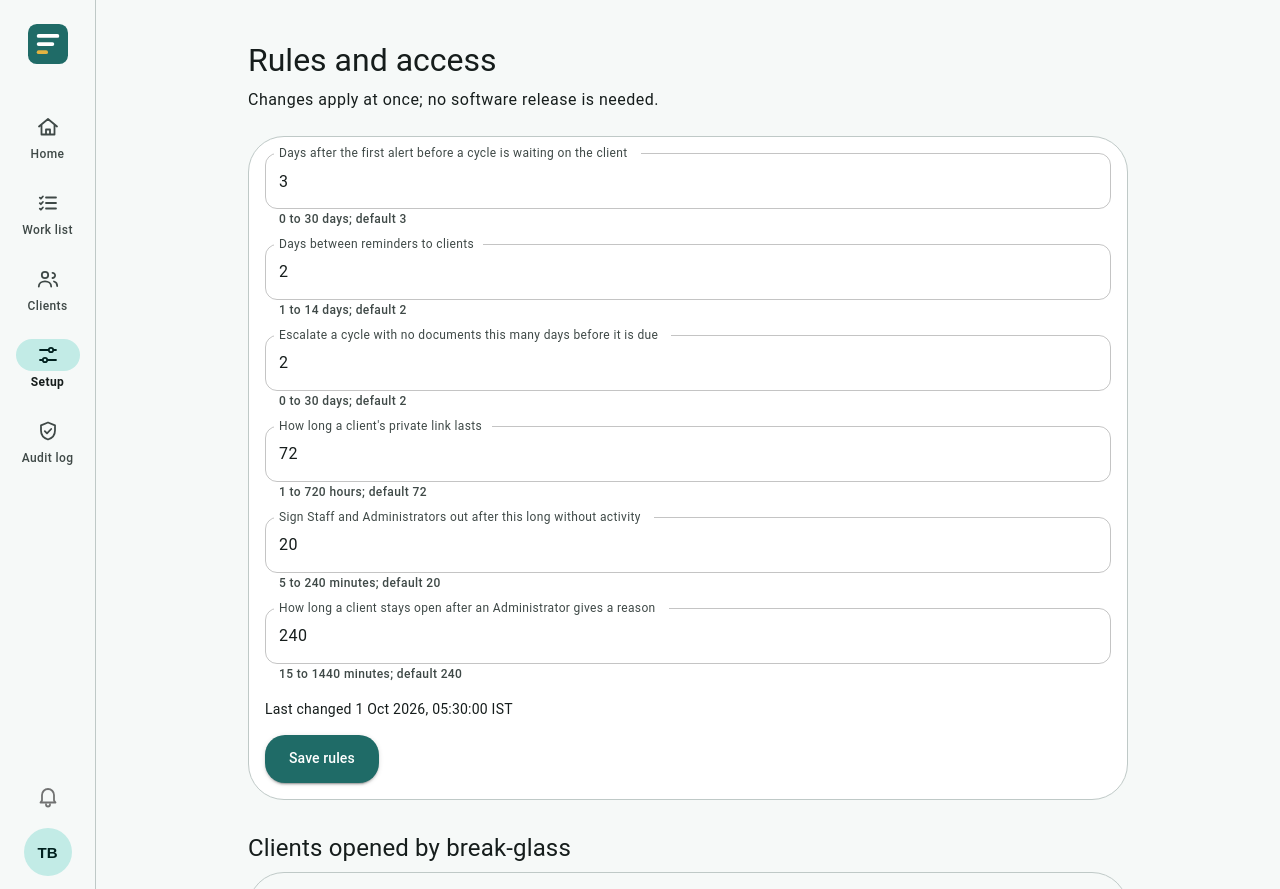
Scenario: Rules and access › changes a rule within its limits and lists break-glass openings
This screenshot has width=1280, height=889.
Step 1. Replace the text in the field labelled "Sign Staff and Administrators out" with "300" → (688, 545), box [265, 517, 1111, 573]
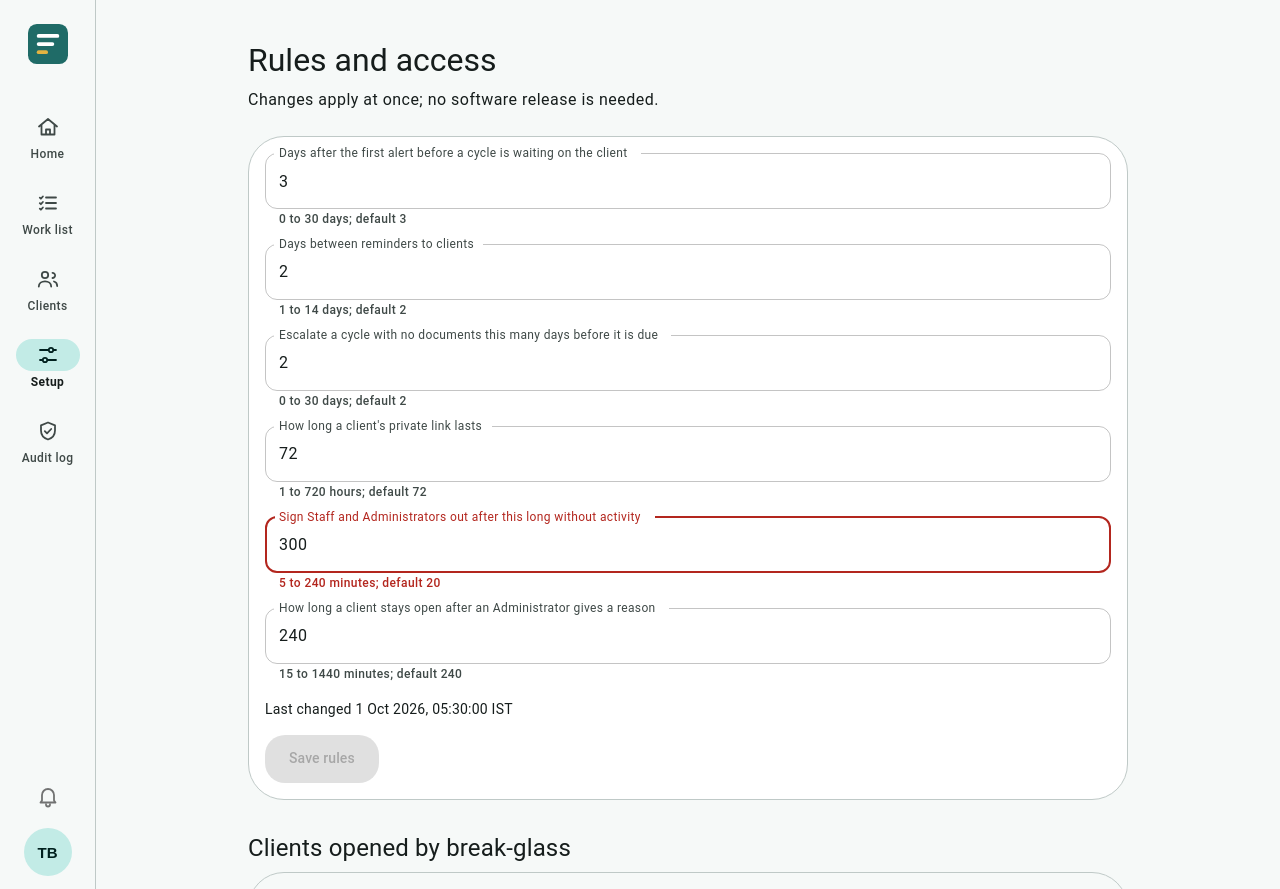
expect the button "Save rules" is disabled: met, box [265, 735, 379, 783]
Step 2. Replace the text in the field labelled "Sign Staff and Administrators out" with "45" → (688, 545), box [265, 517, 1111, 573]
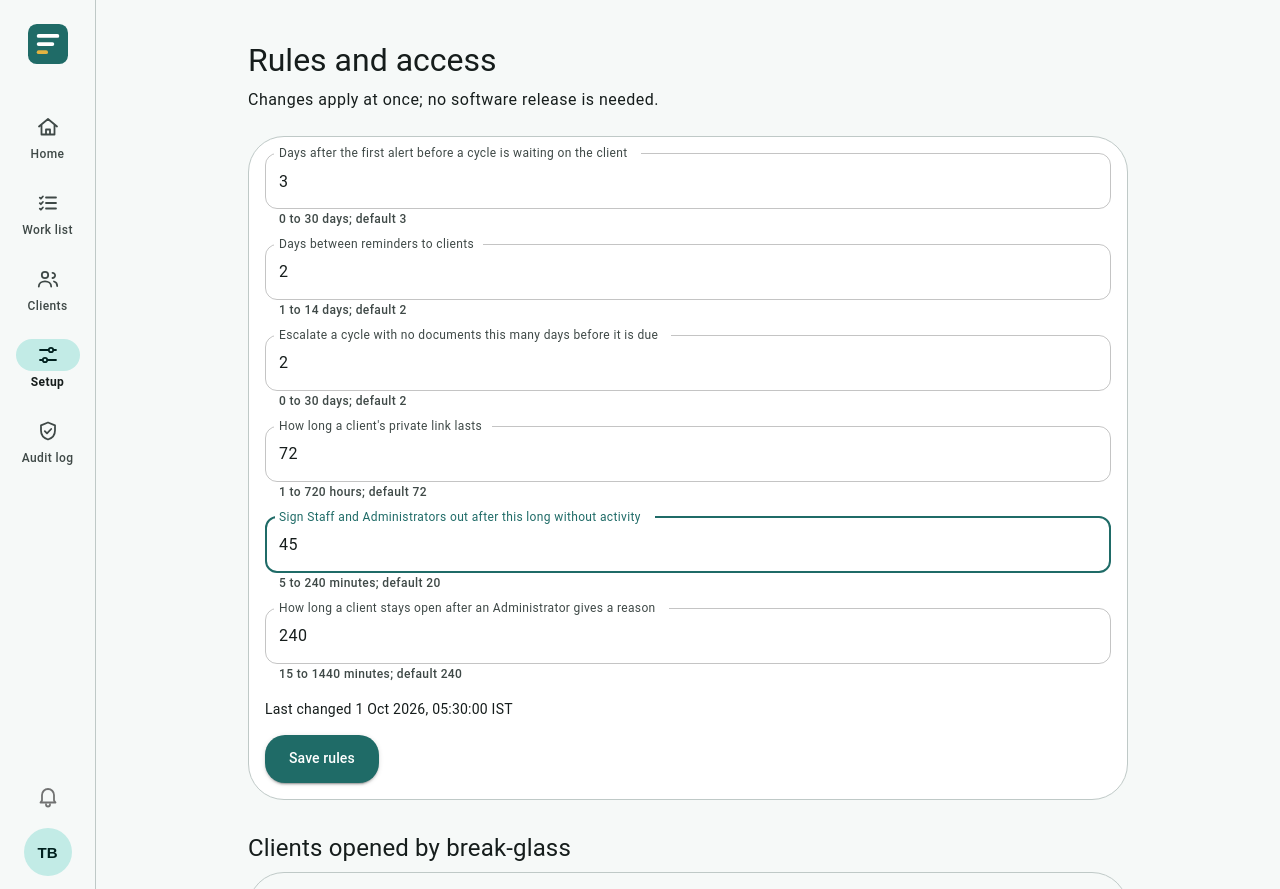
Step 3. Click the button "Save rules" → (322, 759), box [265, 735, 379, 783]
(page scrolled)
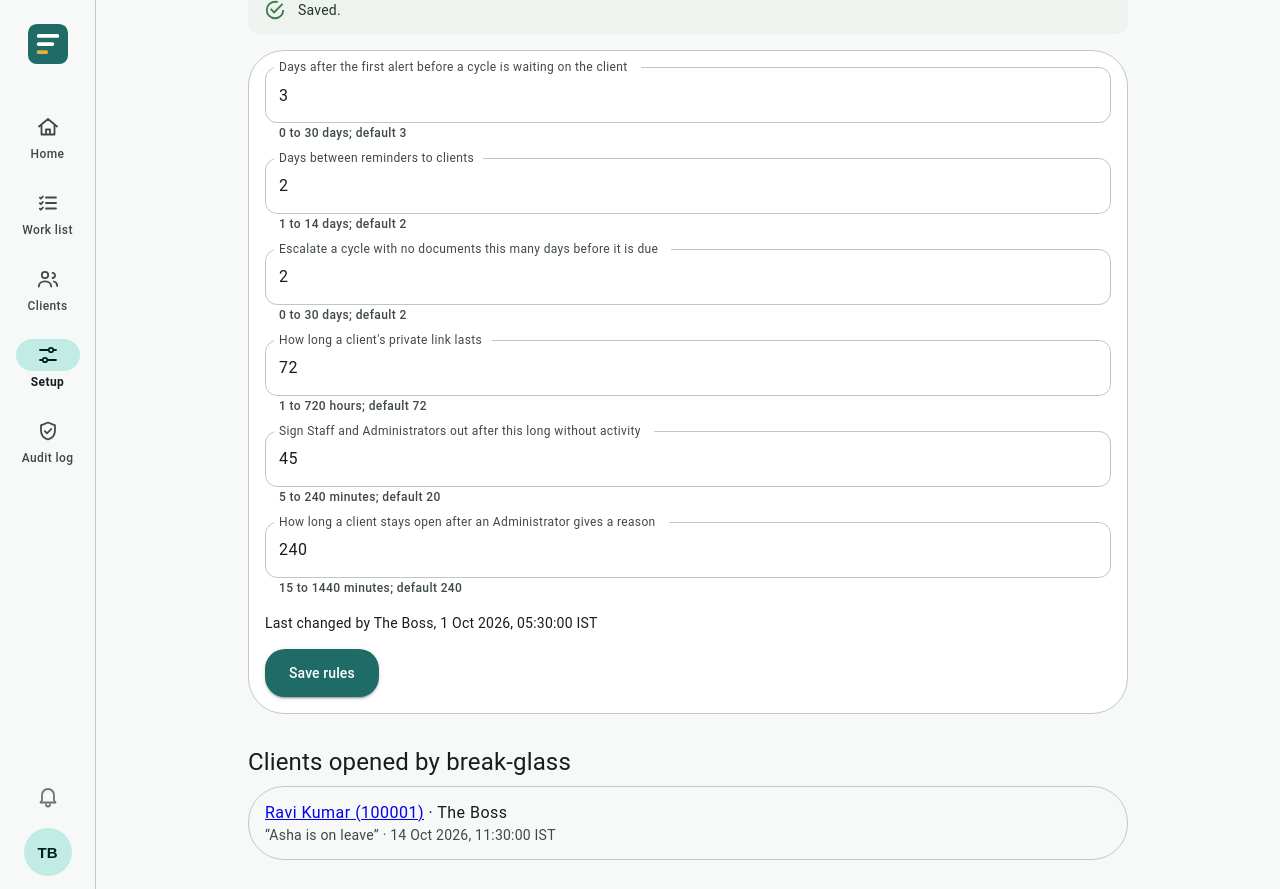
expect the list named "Break-glass openings" shows "Ravi Kumar (100001) · The Boss": met, box [248, 786, 1128, 860]
expect the text "Saved." is shown: met, box [298, 2, 341, 18]
